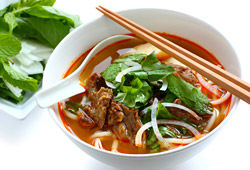beef: (82, 77, 112, 128), (112, 103, 142, 143)
onion: (141, 98, 169, 145)
